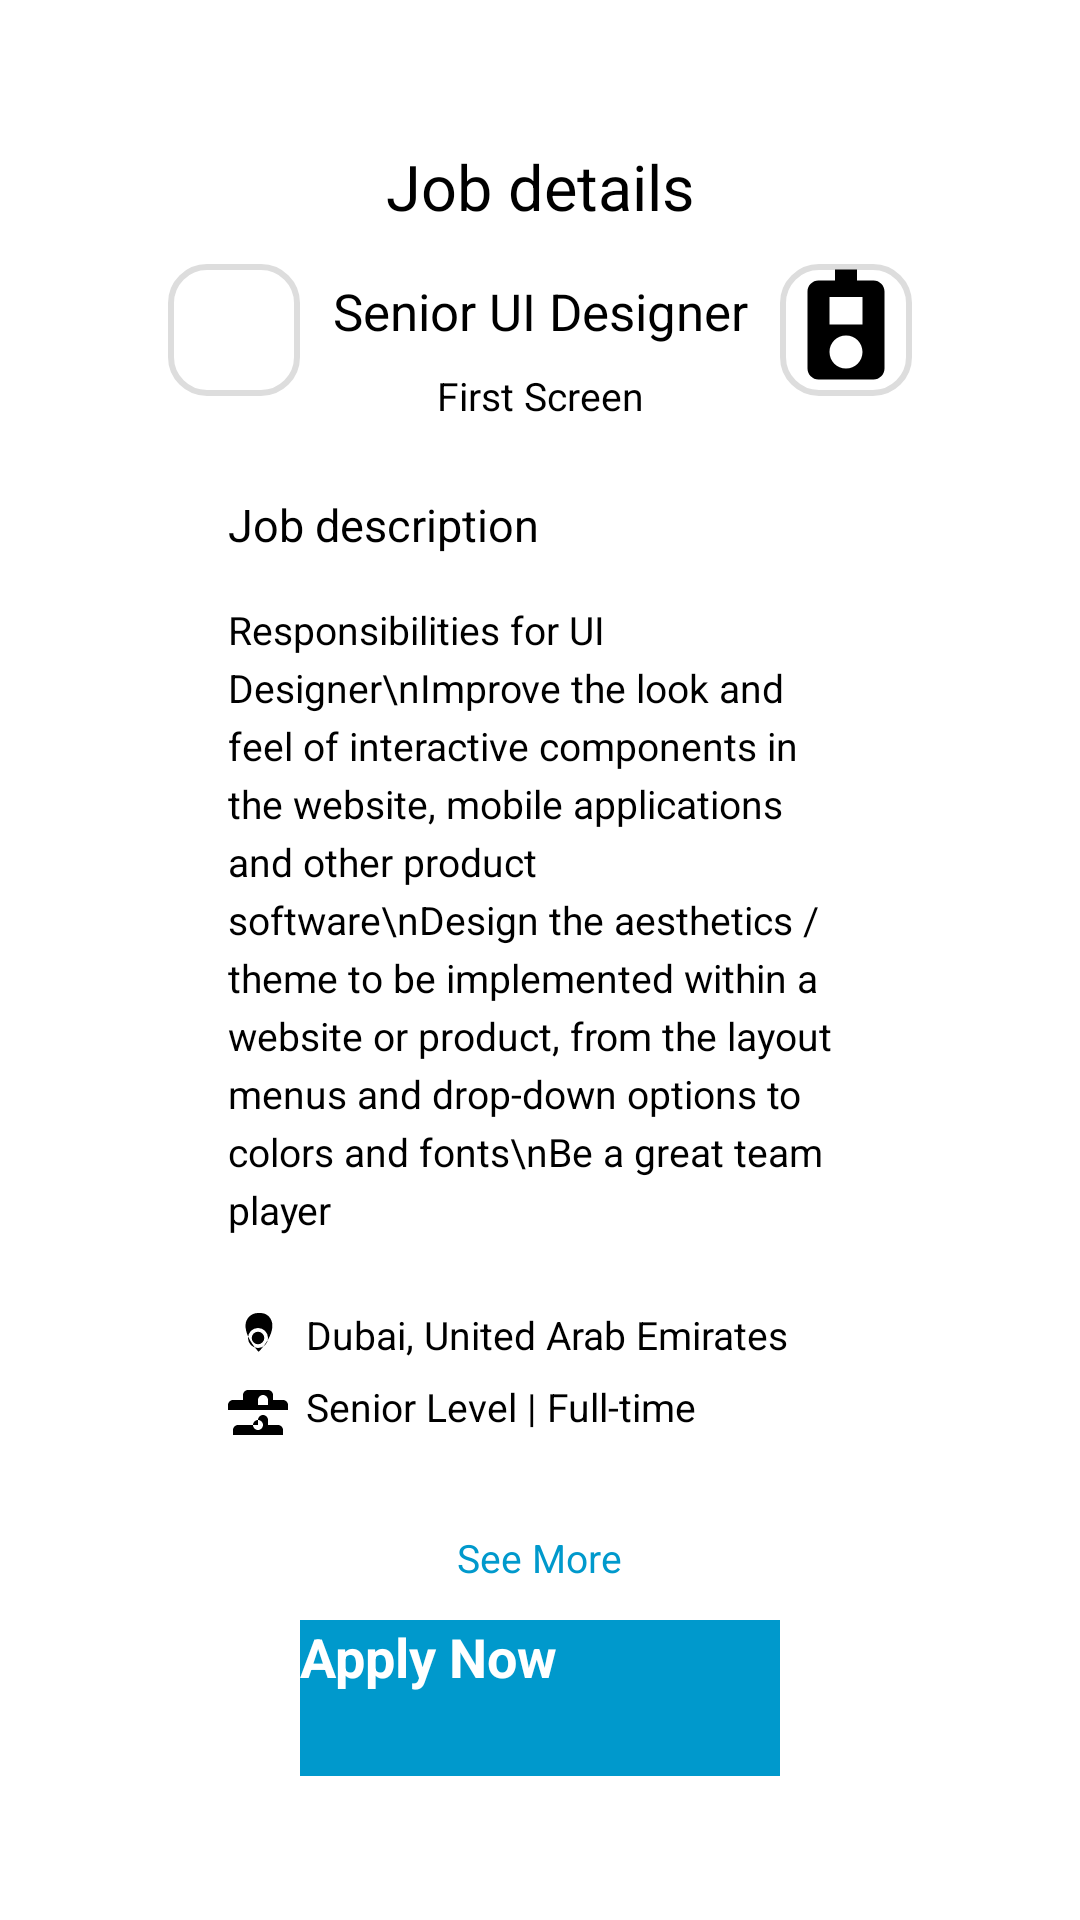

Point at icon controls on the screen. Image size 1080×1920, points as (x=x, y=y).
Location: (x=259, y=1332)
